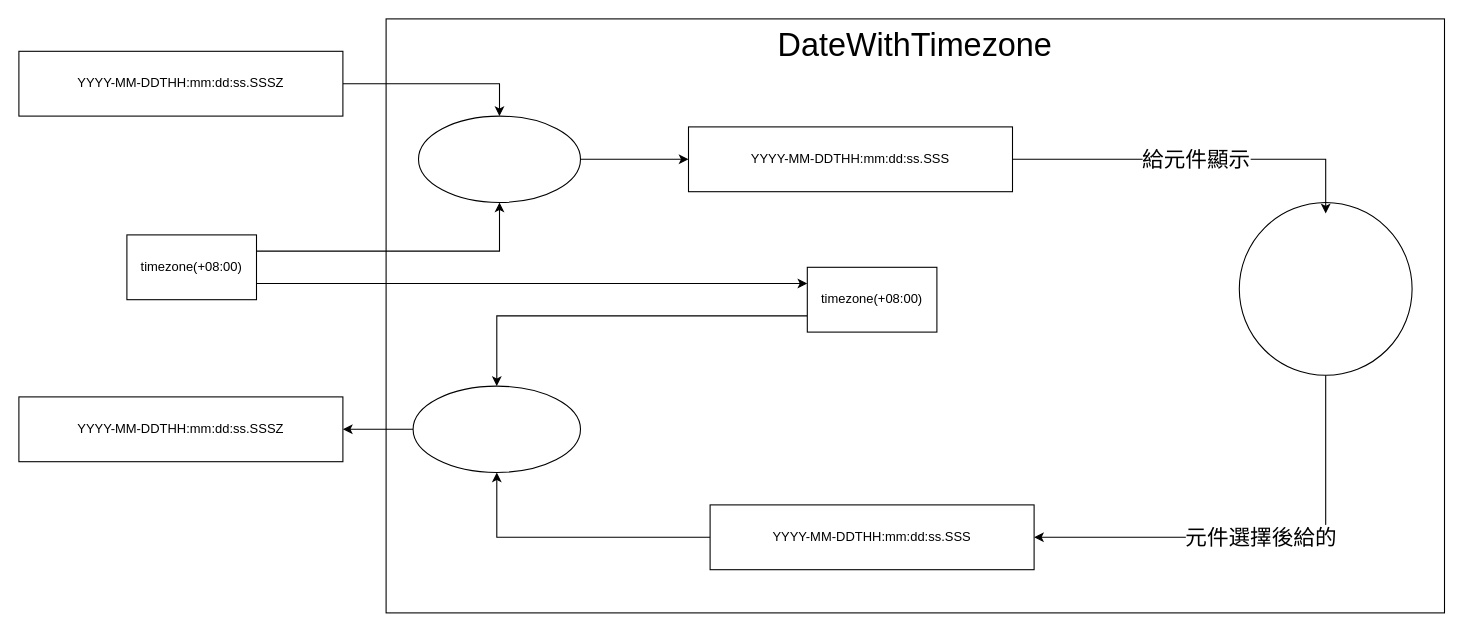
This 1463x632 diagram has some shape labels left out. Each missing label, with the centre of its shape:
el-date-picker: [1325,288]
將tz與時間組合後得到該時區下選擇的時間: [496,429]
根據tz去計算出當地時間: [498,158]
